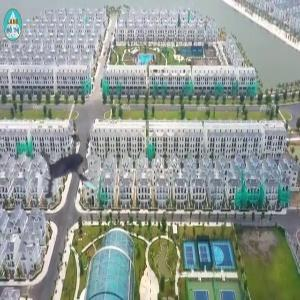drone: (21, 123, 133, 235)
